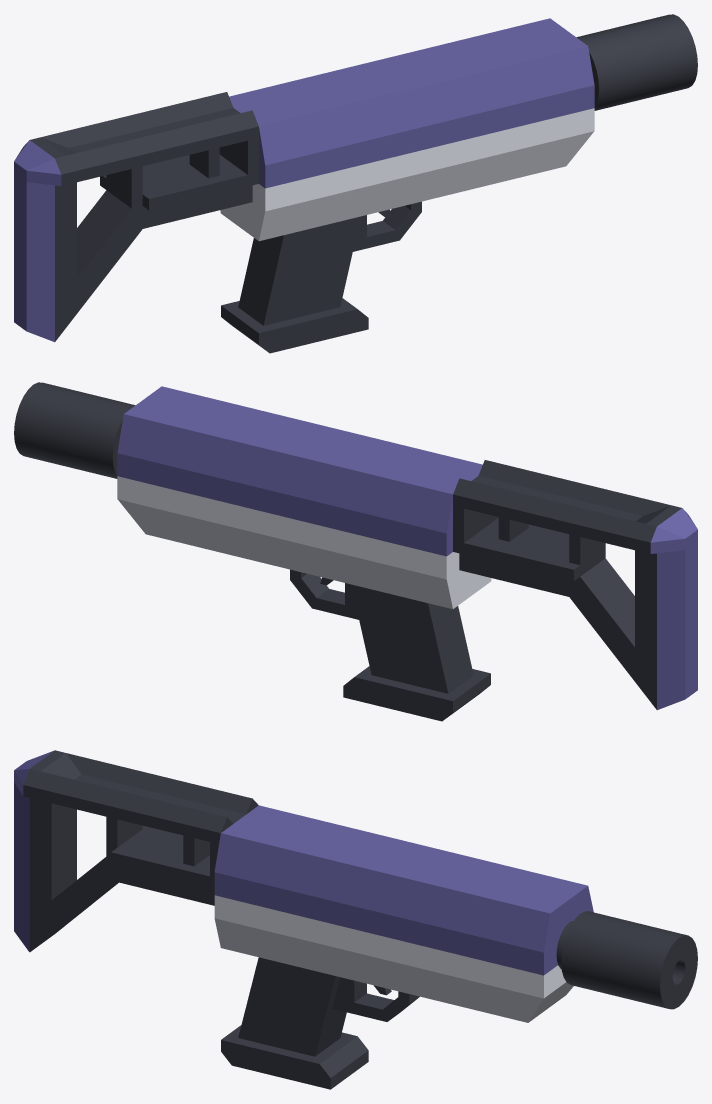
File: smg1.obj
The picture shows the model from 3 angles, top to bottom: view 1: azimuth 30°, elevation 25°; view 2: azimuth 150°, elevation 25°; view 3: azimuth 330°, elevation 25°; orthographic projection.
Visible parts, largest first — view 1: mergedBlocks; view 2: mergedBlocks; view 3: mergedBlocks.
Boxes of the visible parts, x1,y1,x2,y2 form: mergedBlocks: (14, 14, 697, 353); mergedBlocks: (14, 382, 697, 721); mergedBlocks: (14, 750, 697, 1089).
Size of the model in its own units: 3 by 1.05 by 0.4.
